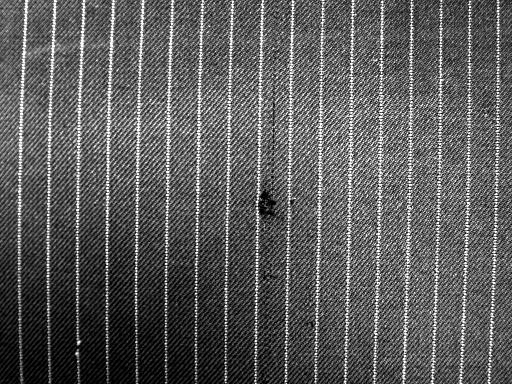fabric_hole: (236, 178, 284, 231)
